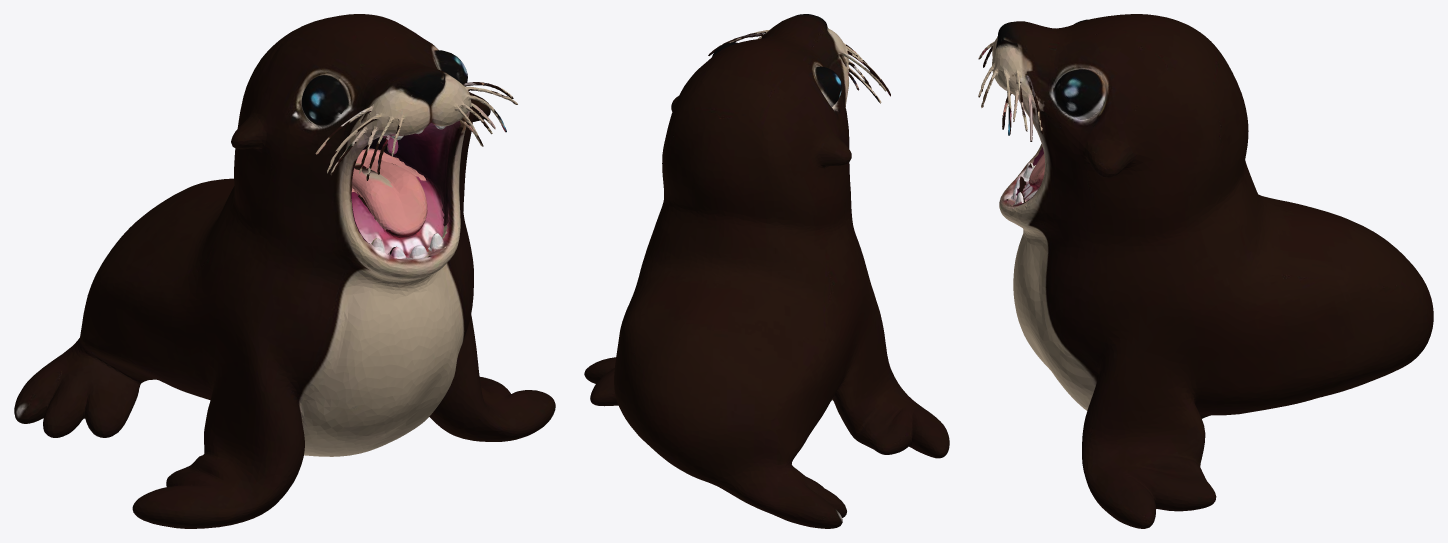
Rendered from reggie_roar.glb.
3 views of the same model, side by side, from view 1: azimuth 30°, elevation 25°; view 2: azimuth 150°, elevation 25°; view 3: azimuth 270°, elevation 25° (orthographic). The views are drawn at different scales.
Visible parts, largest first — view 1: tmp_ja9lkcn.ply; view 2: tmp_ja9lkcn.ply; view 3: tmp_ja9lkcn.ply.
Boxes of the visible parts, x1,y1,x2,y2 form: tmp_ja9lkcn.ply: (14, 14, 555, 528); tmp_ja9lkcn.ply: (584, 14, 949, 528); tmp_ja9lkcn.ply: (978, 14, 1433, 528).
Size of the model in its own units: 1.99 by 1.98 by 1.94.
Materials: 1 (1 with a texture image).
